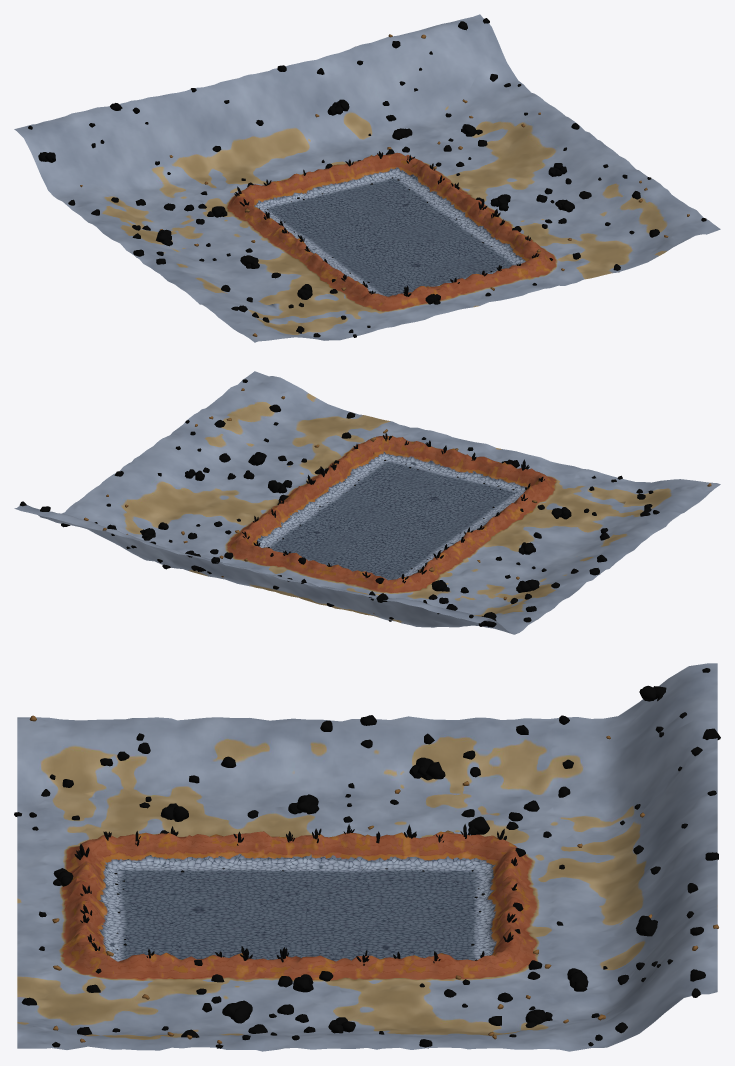
File: surroundings_13x23.glb
The picture shows the model from 3 angles, top to bottom: view 1: azimuth 30°, elevation 25°; view 2: azimuth 150°, elevation 25°; view 3: azimuth 270°, elevation 25°; orthographic projection. The views are drawn at different scales.
Visible parts, largest first — view 1: ground, props; view 2: ground, props; view 3: ground, props.
Boxes of the visible parts, box(x1,y1,x2,y2) form: ground: box(14, 14, 720, 342); props: box(28, 18, 706, 337); ground: box(14, 371, 720, 634); props: box(19, 379, 711, 627); ground: box(17, 663, 717, 1051); props: box(14, 668, 720, 1048).
Bounding box in the file's own units: 57.23 × 7.62 × 51.5.
2 materials, 2 textured.
